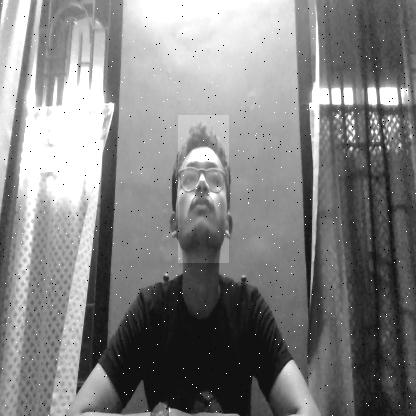Distracted: (178, 115, 229, 264)
